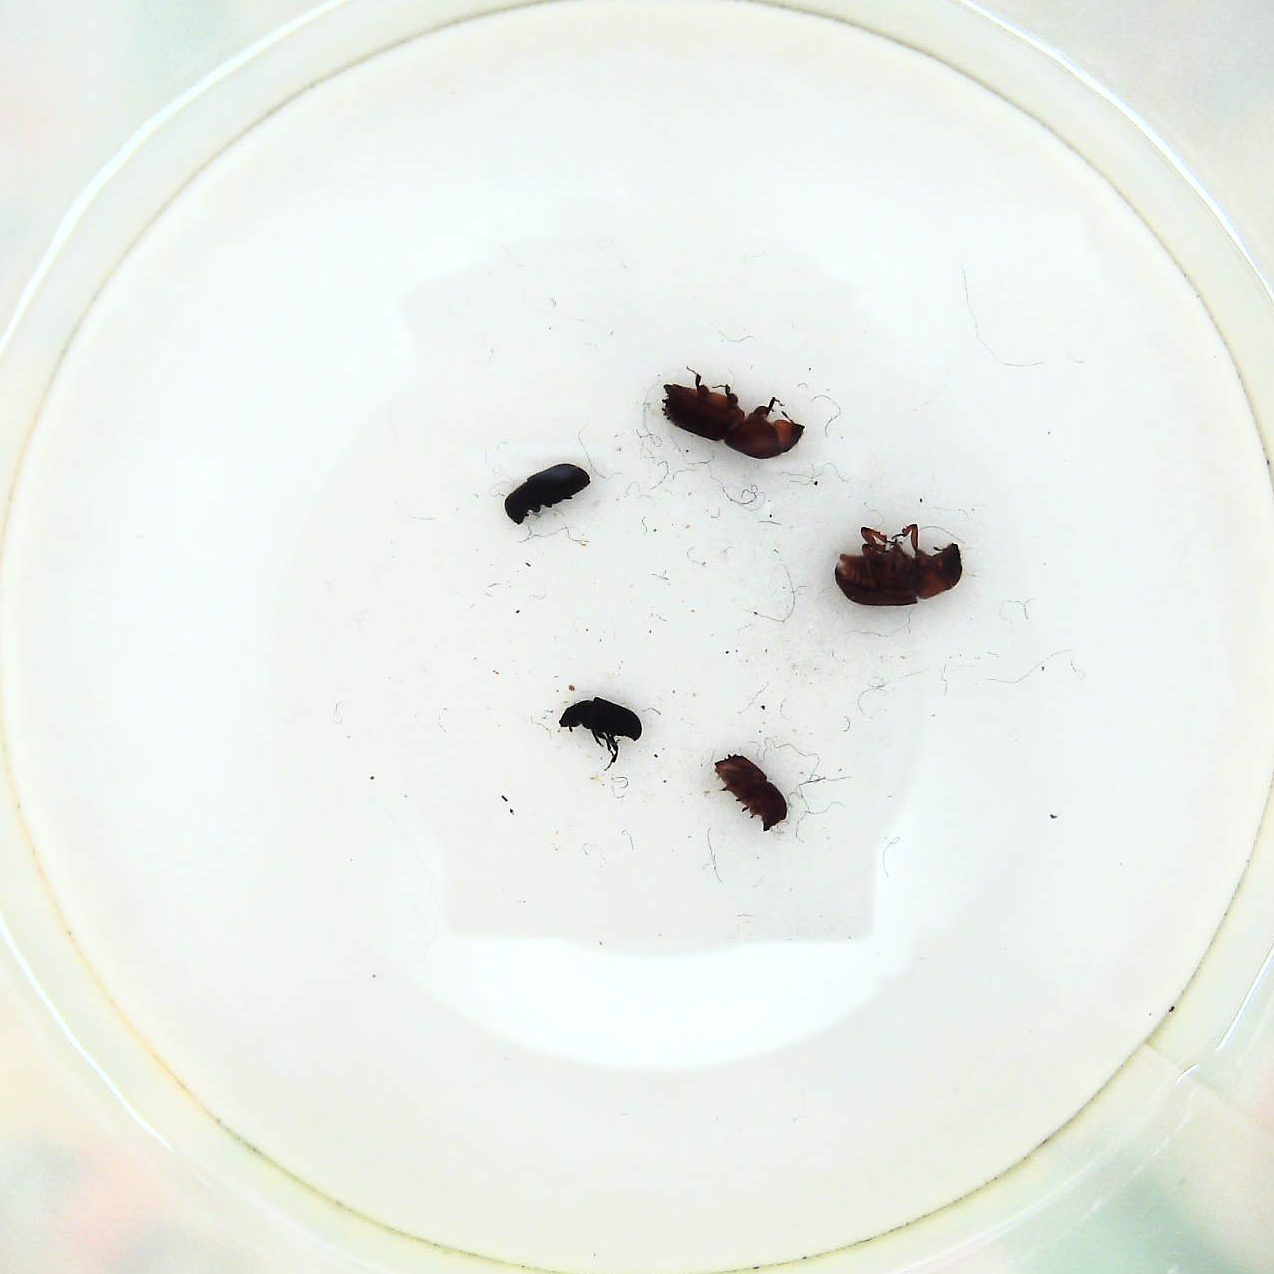Boerner: (658, 360, 807, 466)
Leconte: (831, 517, 970, 612)
armandi: (499, 459, 591, 526)
coleoptera: (556, 695, 646, 768)
linnaeus: (707, 745, 787, 836)
